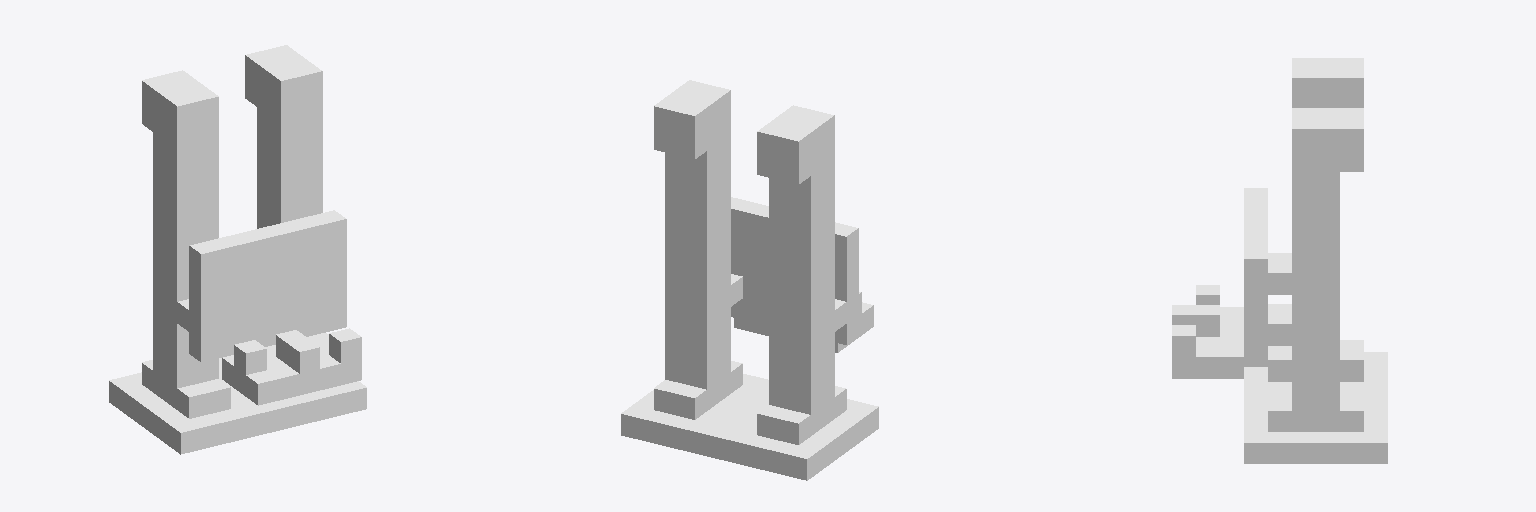
Rendered from Crane_pedestal.obj.
The picture shows the model from 3 angles: view 1: azimuth 30°, elevation 25°; view 2: azimuth 150°, elevation 25°; view 3: azimuth 270°, elevation 25°; orthographic projection.
Parts seen in each view (by area): view 1: object 1; view 2: object 1; view 3: object 1.
Boxes of the visible parts, x1,y1,x2,y2 form: object 1: [109, 45, 366, 454]; object 1: [621, 80, 878, 480]; object 1: [1172, 58, 1387, 463].
Size of the model in its own units: 1.8 by 3 by 1.8.